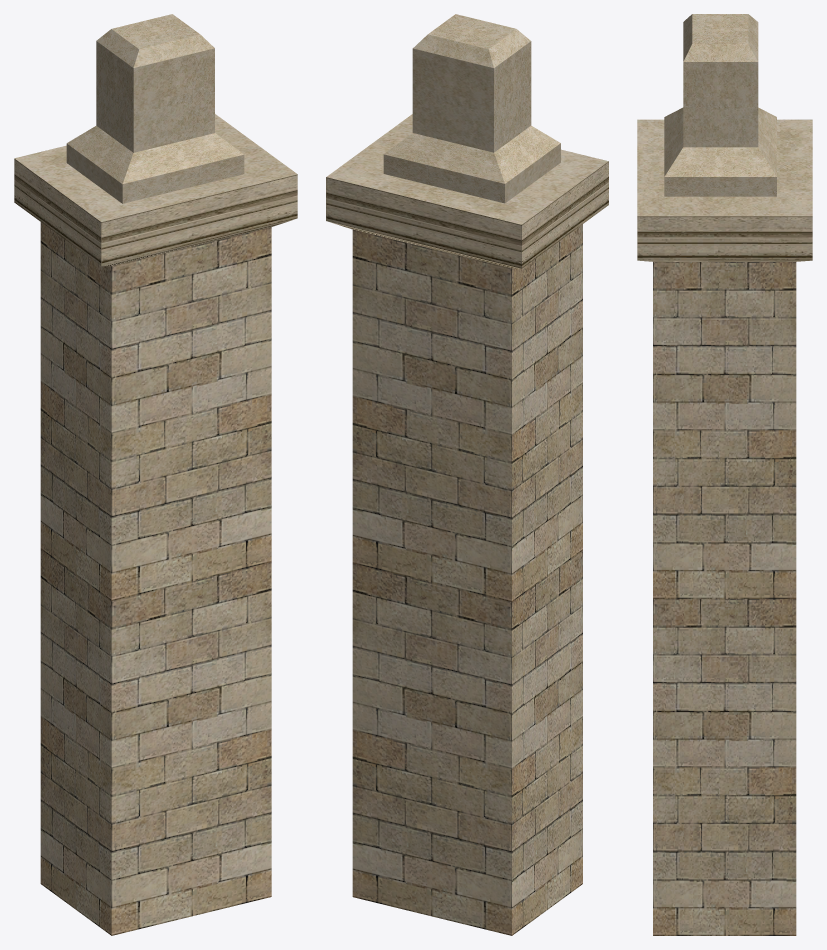
Rendered from thm_nboo_imprv_lattice_pillar_s01_l1.fbx.
3 renders of one model, left to right at view 1: azimuth 30°, elevation 25°; view 2: azimuth 150°, elevation 25°; view 3: azimuth 270°, elevation 25°, orthographic.
Visible parts, largest first — view 1: mesh_node; view 2: mesh_node; view 3: mesh_node.
Part boxes in pixels (bbox=[...]): mesh_node: bbox=[14, 14, 297, 935]; mesh_node: bbox=[326, 14, 608, 935]; mesh_node: bbox=[637, 14, 812, 935].
Size of the model in its own units: 1.23 by 5.14 by 0.9445.
